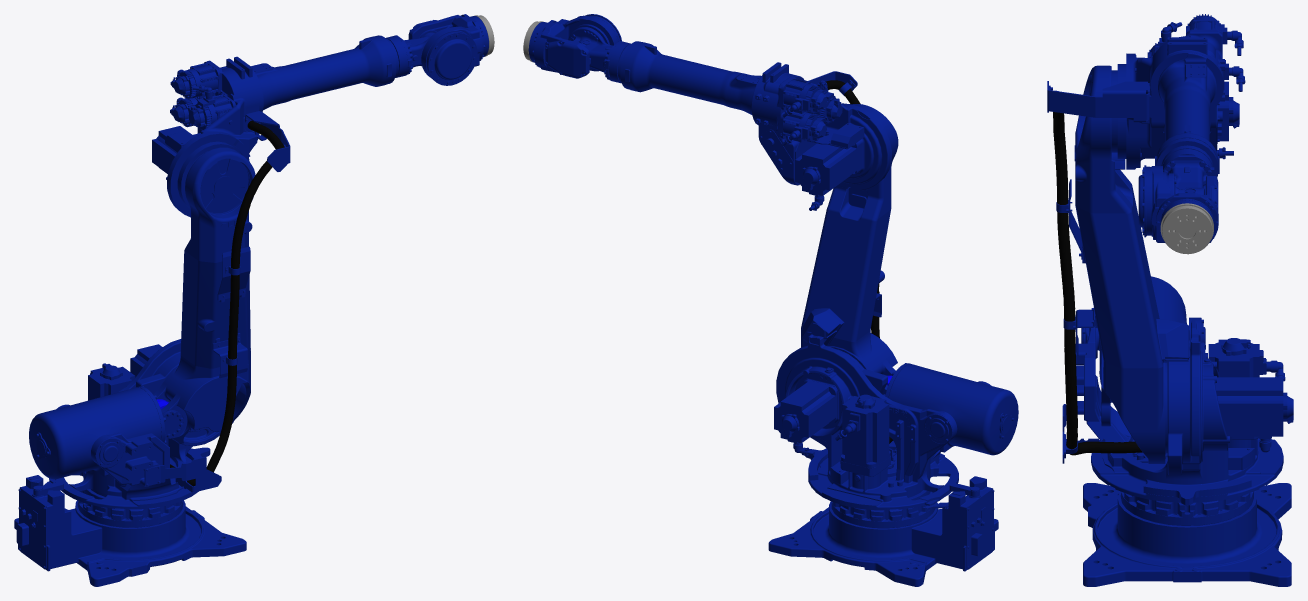
The picture shows the model from 3 angles, left to right: view 1: azimuth 30°, elevation 25°; view 2: azimuth 150°, elevation 25°; view 3: azimuth 270°, elevation 25°; orthographic projection. The views are drawn at different scales.
Visible parts, largest first — view 1: shoulder_link, base_link, upper_arm, base_static, wrist1, wrist2; view 2: base_link, upper_arm, base_static, shoulder_link, wrist2, wrist1; view 3: base_link, shoulder_link, base_static, upper_arm, wrist1, flange, wrist2.
Part boxes in pixels (x1,y1,x2,y2): shoulder_link: [153, 147, 255, 452]; base_link: [29, 339, 234, 509]; upper_arm: [152, 35, 407, 217]; base_static: [14, 475, 246, 586]; wrist1: [394, 32, 477, 85]; wrist2: [408, 14, 488, 78]; base_link: [774, 334, 1018, 510]; upper_arm: [609, 41, 891, 210]; base_static: [768, 476, 998, 586]; shoulder_link: [801, 104, 898, 394]; wrist2: [528, 15, 618, 78]; wrist1: [568, 14, 622, 81]; base_link: [1062, 276, 1293, 506]; shoulder_link: [1053, 65, 1189, 463]; base_static: [1083, 483, 1291, 586]; upper_arm: [1047, 14, 1245, 177]; wrist1: [1138, 155, 1214, 237]; flange: [1160, 203, 1213, 254]; wrist2: [1151, 166, 1218, 243].
Bounding box in the file's own units: 2.37 × 2.2 × 0.869.
